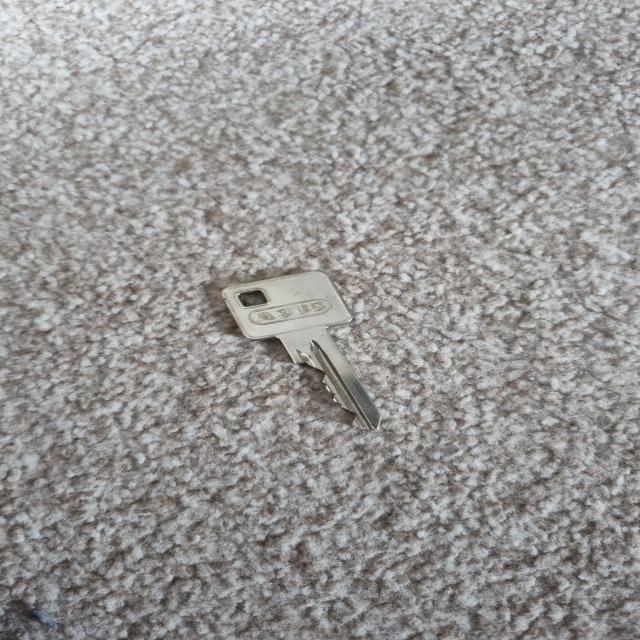Key: (222, 271, 380, 429)
